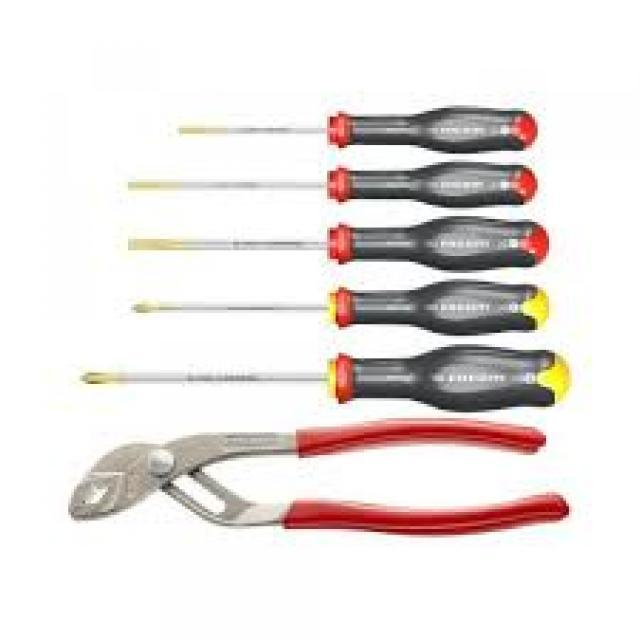screwdriver: (75, 337, 574, 417), (126, 278, 556, 336), (116, 218, 552, 274), (125, 160, 538, 213), (158, 106, 539, 160)
